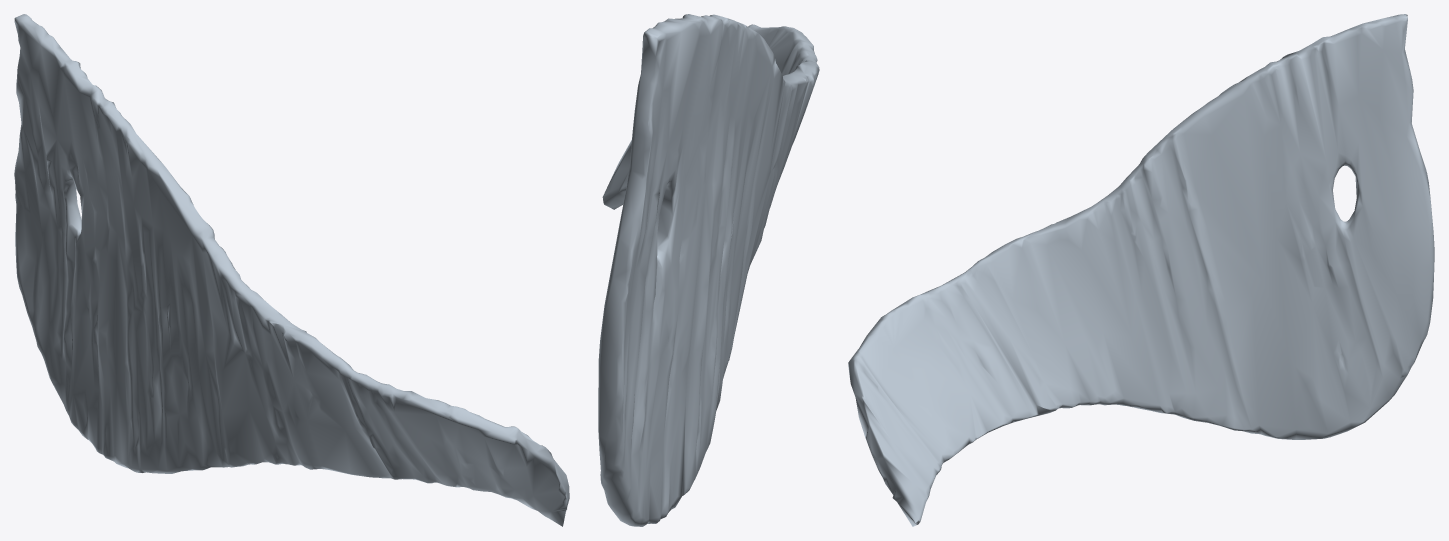
File: quadrangular-membrane-r.glb
3 renders of one model, left to right at view 1: azimuth 30°, elevation 25°; view 2: azimuth 150°, elevation 25°; view 3: azimuth 270°, elevation 25°, orthographic. The views are drawn at different scales.
Parts seen in each view (by area): view 1: Quadrangular membrane.r; view 2: Quadrangular membrane.r; view 3: Quadrangular membrane.r.
Boxes of the visible parts, <box> form: Quadrangular membrane.r: <box>14,14,569,526</box>; Quadrangular membrane.r: <box>598,14,819,526</box>; Quadrangular membrane.r: <box>848,14,1434,526</box>.
Size of the model in its own units: 0.016 by 0.0216 by 0.0285.
